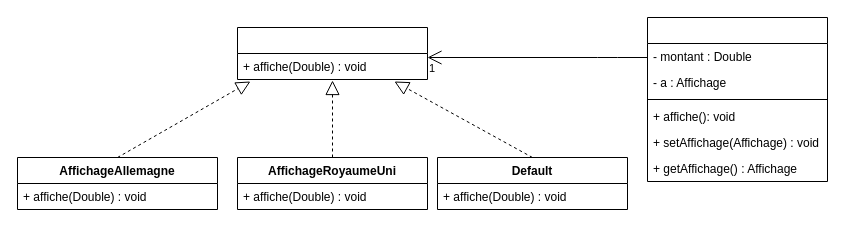
This 845x230 diagram has some shape labels left out. Here are the shapes that lost their labels. From the top down, the box of each, then its label:
(236, 26, 428, 80): Affichage
(646, 16, 828, 182): Facture
